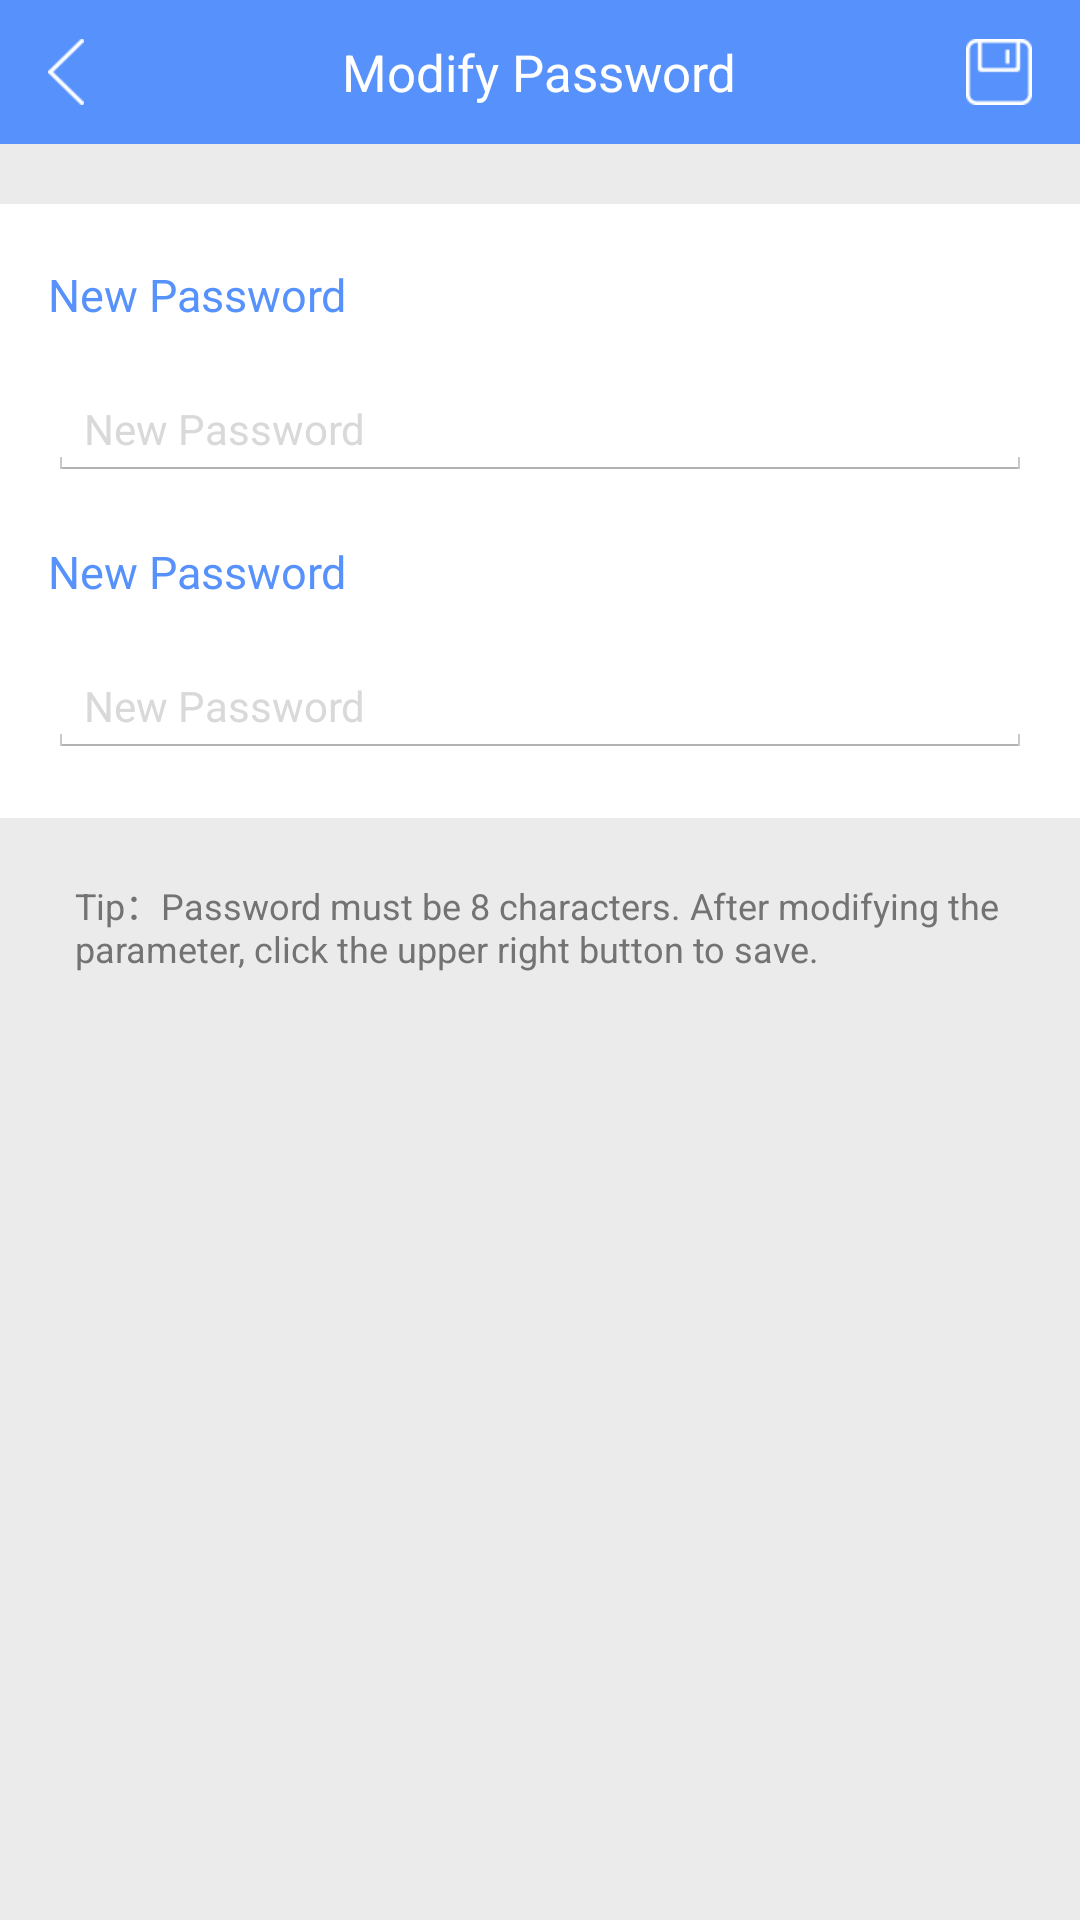

Screen size 1080×1920. Icon name, then its box in pixels as bbox=[x1, y1, x2, y2]:
save: bbox=[966, 39, 1032, 105]
